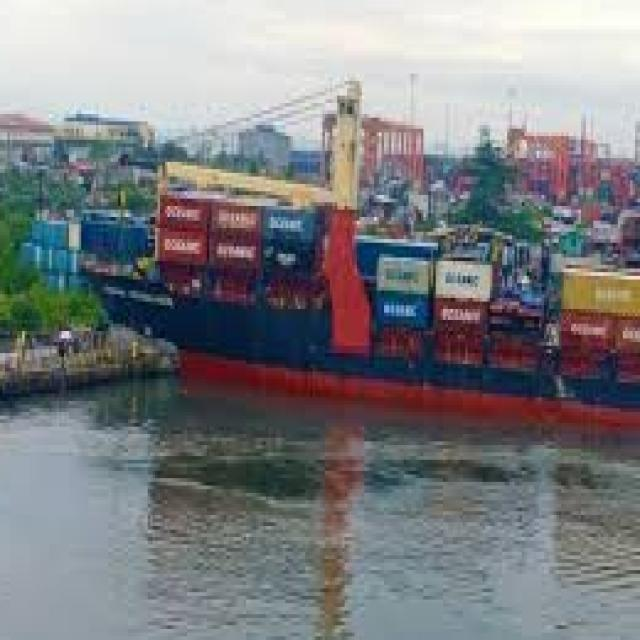cargoship: (88, 147, 640, 430)
